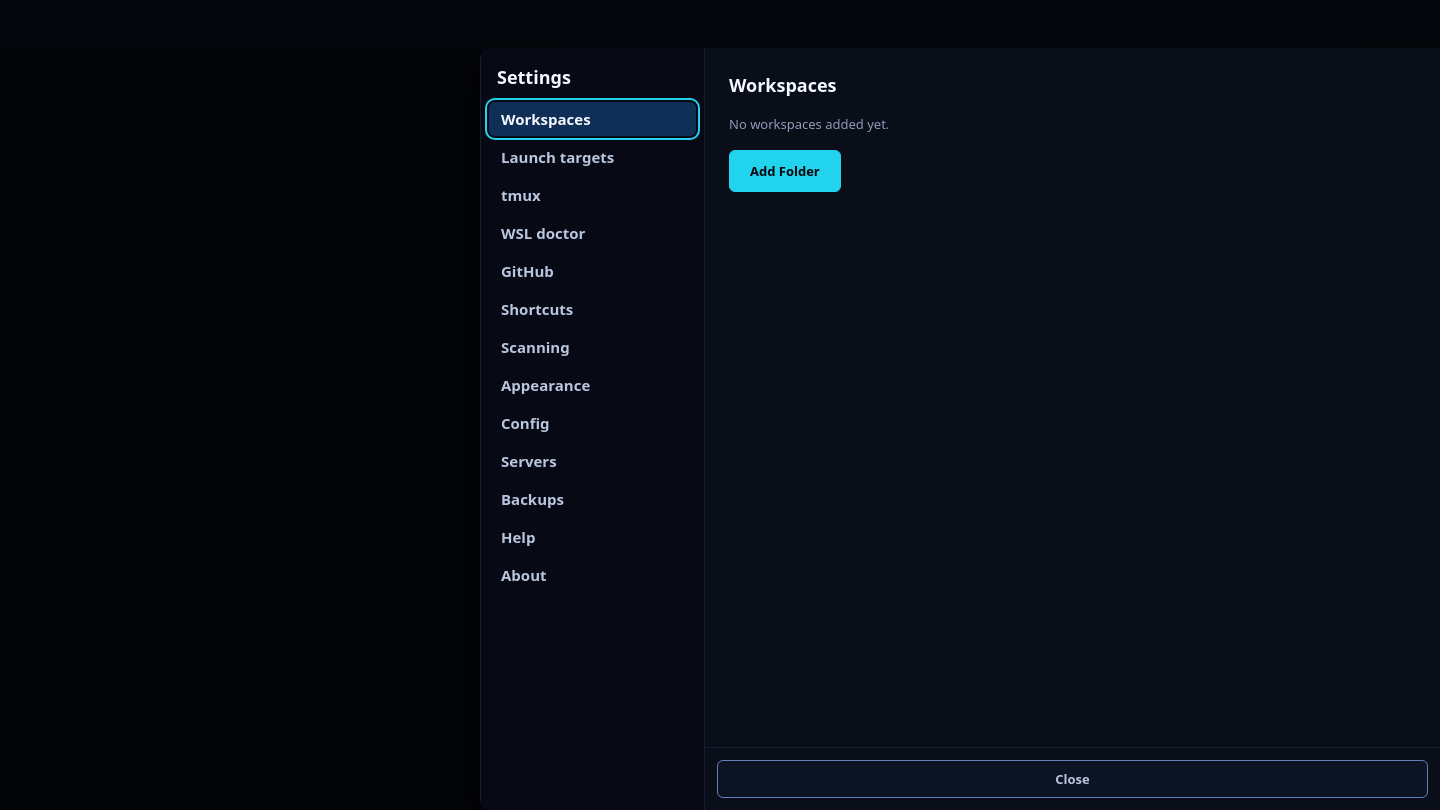
Test: Settings — the scan section of prefs.json is read, not assumed › reads it once when the panel opens, and writes nothing until Save
Click the button "Scanning" at (592, 347), box [489,330,696,364]
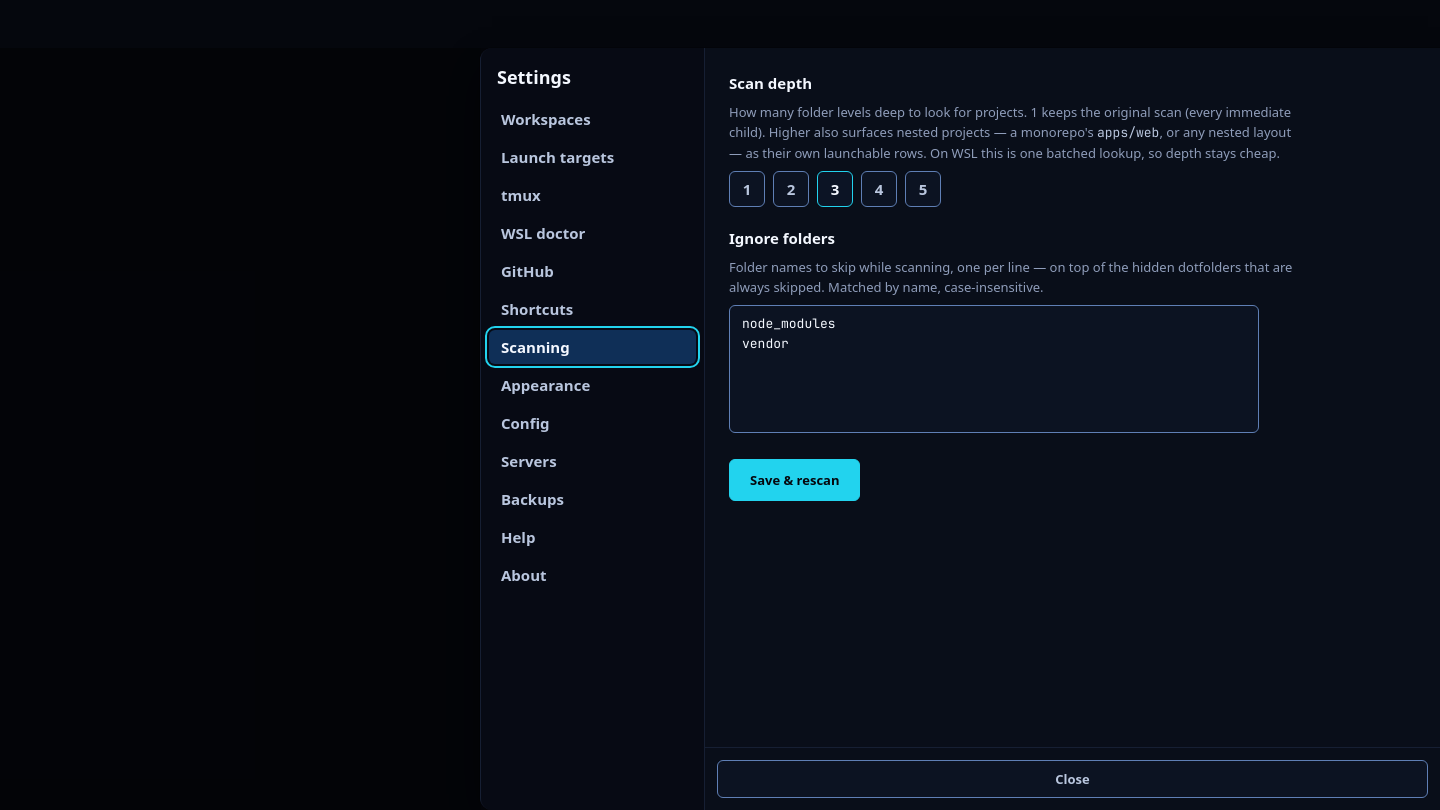
Expected: the button "Save & rescan" is enabled, [729,459,860,501]
